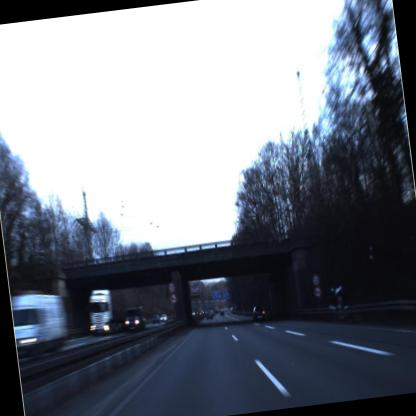prohibitory: (310, 268, 322, 287), (165, 276, 177, 292), (168, 292, 180, 307), (312, 285, 321, 300)
